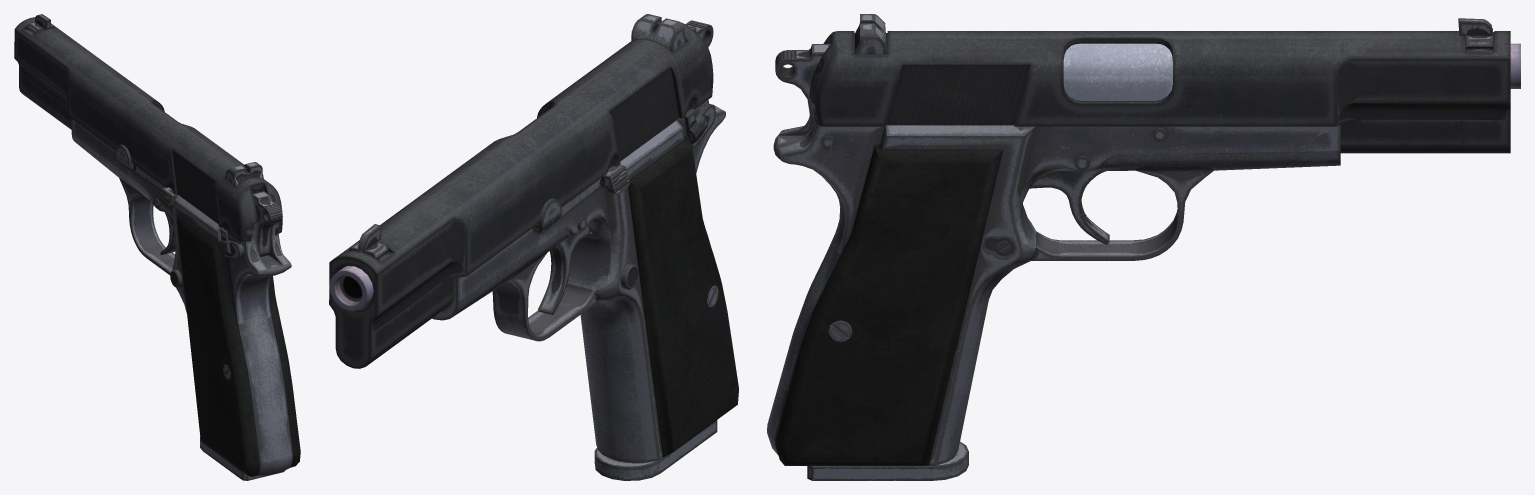
The model's file is pistol_9mm.glb.
The picture shows the model from 3 angles, left to right: view 1: azimuth 30°, elevation 25°; view 2: azimuth 150°, elevation 25°; view 3: azimuth 270°, elevation 25°; orthographic projection. The views are drawn at different scales.
Visible parts, largest first — view 1: base.001, slide.001, hammer.001, mag.001; view 2: base.001, slide.001, mag.001, trigger.001; view 3: base.001, slide.001, mag.001, trigger.001, hammer.001.
Boxes of the visible parts, x1,y1,x2,y2 form: base.001: (71, 118, 300, 476); slide.001: (14, 14, 282, 241); hammer.001: (252, 191, 282, 256); mag.001: (200, 437, 284, 480); base.001: (329, 100, 738, 462); slide.001: (329, 14, 713, 368); mag.001: (594, 420, 717, 480); trigger.001: (538, 226, 589, 314); base.001: (767, 43, 1520, 465); slide.001: (809, 14, 1510, 153); mag.001: (807, 441, 968, 480); trigger.001: (1030, 170, 1109, 244); hammer.001: (775, 44, 830, 121).
Bounding box in the file's own units: 0.0277 × 0.1415 × 0.2151.
Materials: 1 (1 with a texture image).
